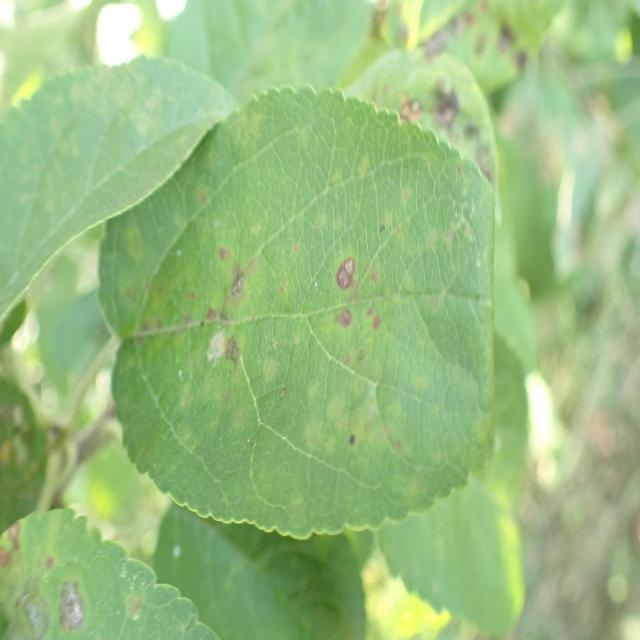frog-eye-leaf-spot: (95, 82, 497, 539), (1, 506, 220, 640)
